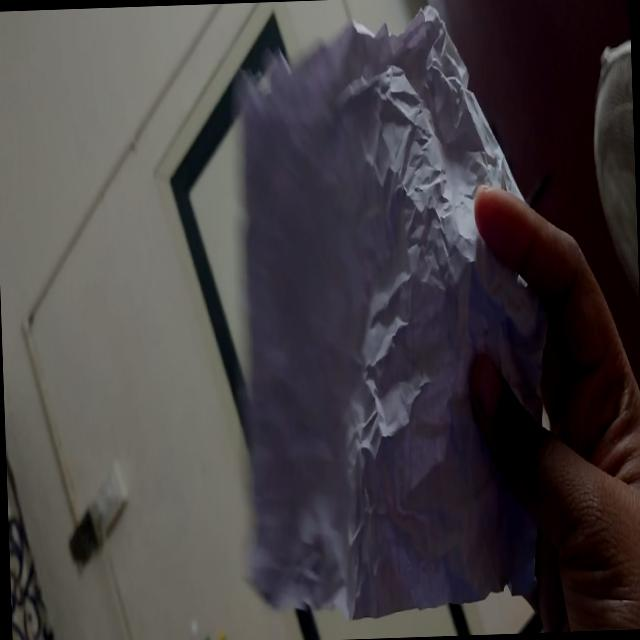Paper - Recyclable: (220, 0, 557, 626)
